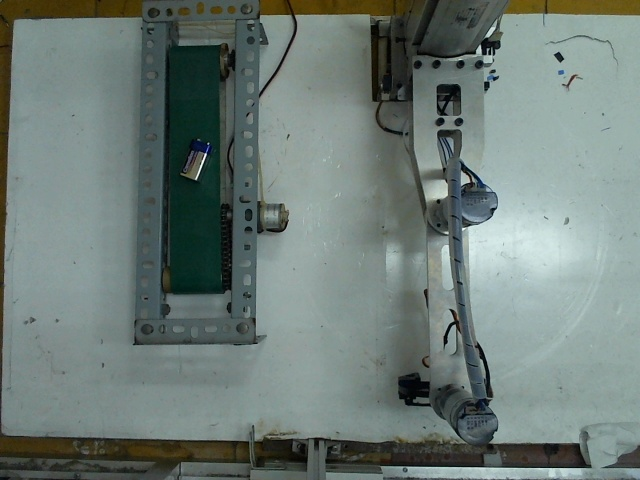battery: (179, 135, 211, 179)
